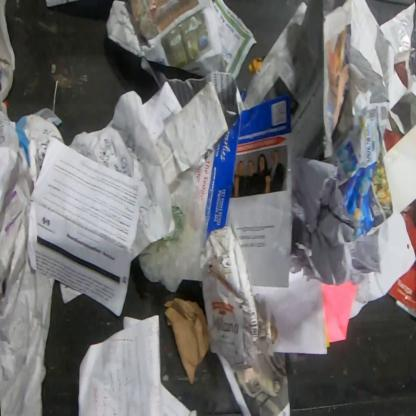cardboard: (198, 224, 276, 366), (162, 296, 211, 386)
soft_plastic: (138, 154, 209, 294)
